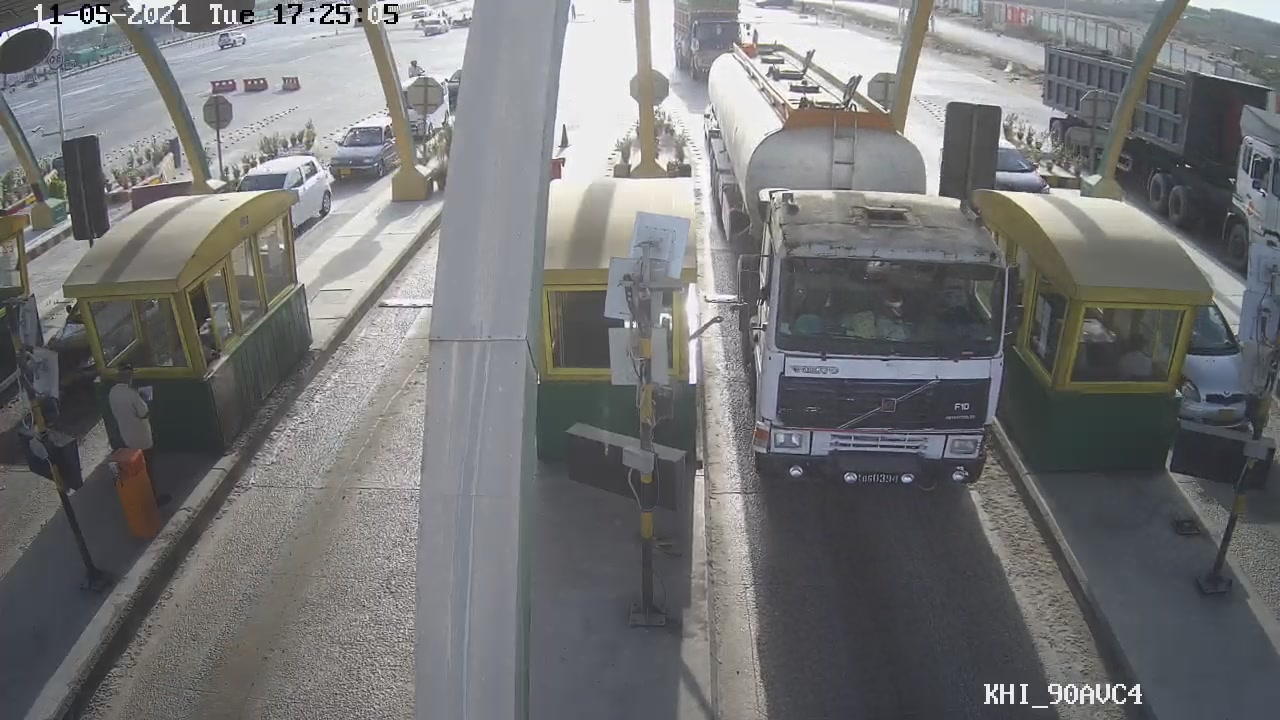F6: (697, 33, 1023, 496)
